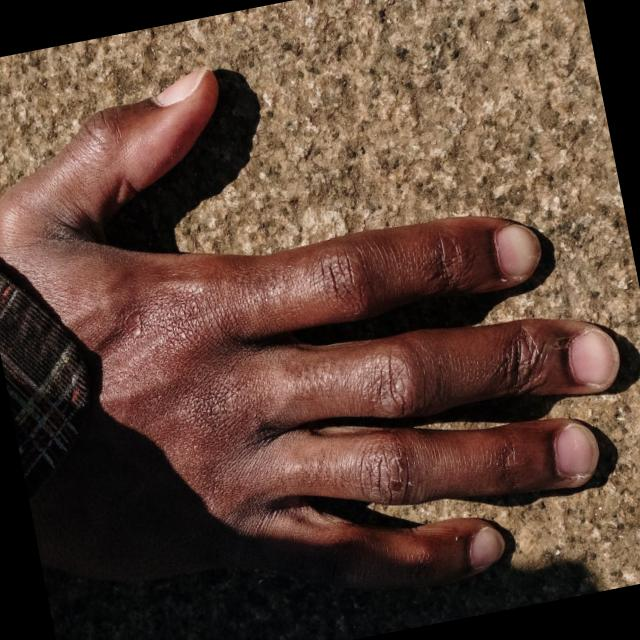Nail: (570, 327, 621, 384), (495, 223, 542, 278), (555, 422, 599, 475), (153, 65, 209, 105), (470, 525, 505, 565)
